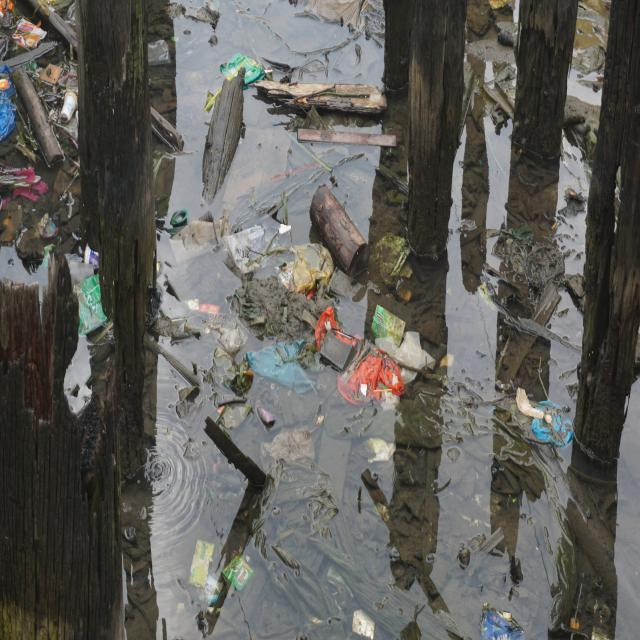Bungkus Makanan: (222, 219, 282, 275), (221, 50, 267, 92), (370, 301, 407, 351), (190, 539, 216, 587)
Bungkus Minuman: (224, 554, 256, 593)
Kantong Plastik: (318, 307, 407, 412), (248, 336, 319, 396), (287, 241, 336, 299), (534, 398, 575, 450)
